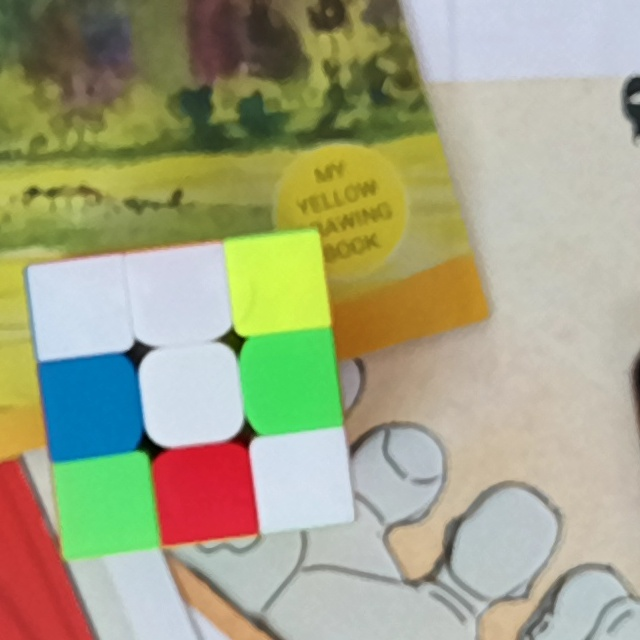tile: (39, 268, 122, 349), (236, 241, 319, 321), (137, 253, 222, 331), (263, 439, 344, 519), (253, 341, 333, 421), (49, 366, 130, 445), (64, 466, 147, 543), (163, 454, 246, 530), (150, 357, 232, 432)
